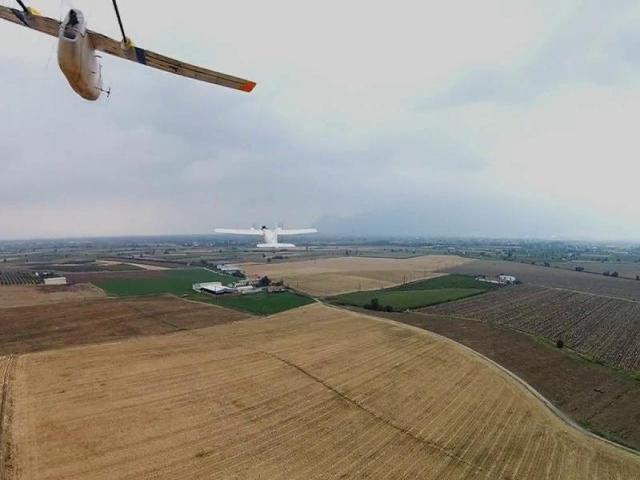hedef: (0, 0, 270, 122), (210, 212, 328, 260)
